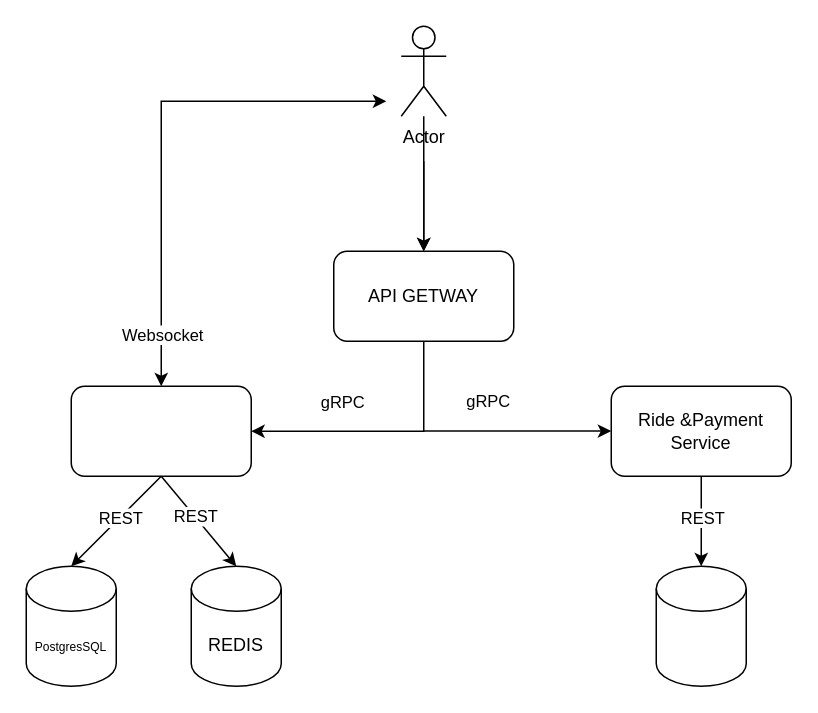
Image size: 818x713. Some labels were removed from this diagram. The shapes that lost their labels are listed below. From the top down, each one's box as (x1, y1, x2, y2) in pixels, then its label:
(70, 385, 251, 476): User & Location serviceservice
(655, 565, 746, 686): MongoDB
